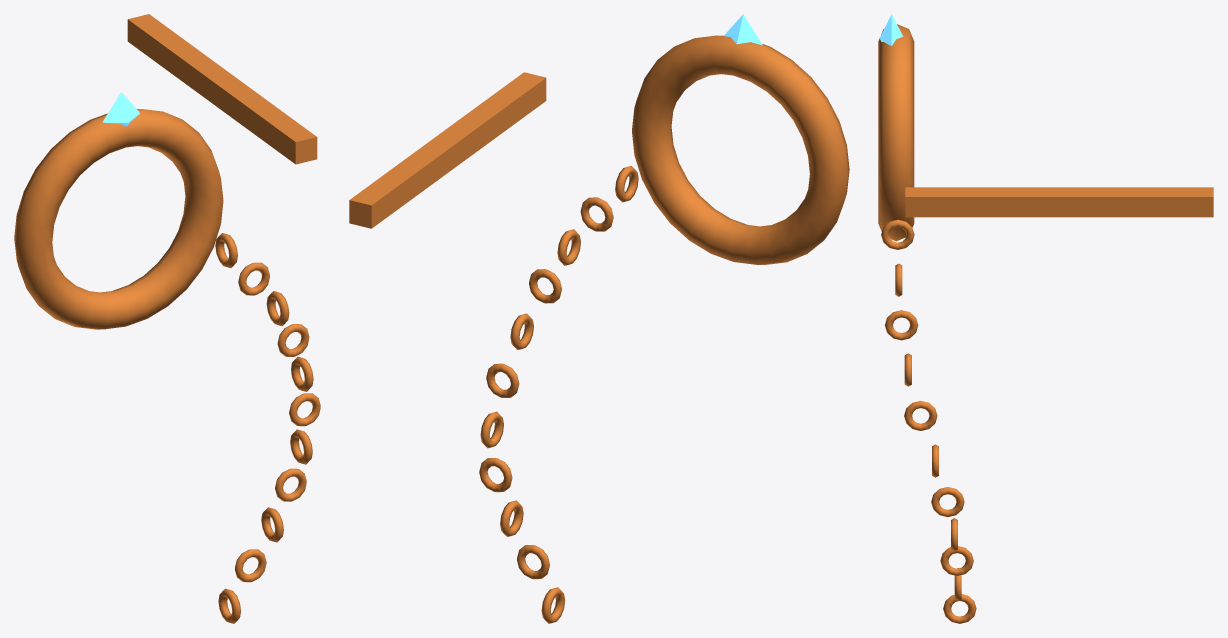
File: gl_eqen3.glb
The picture shows the model from 3 angles, left to right: view 1: azimuth 30°, elevation 25°; view 2: azimuth 150°, elevation 25°; view 3: azimuth 270°, elevation 25°; orthographic projection. The views are drawn at different scales.
Bounding box in the file's own units: 1.17 × 2.04 × 1.14.
